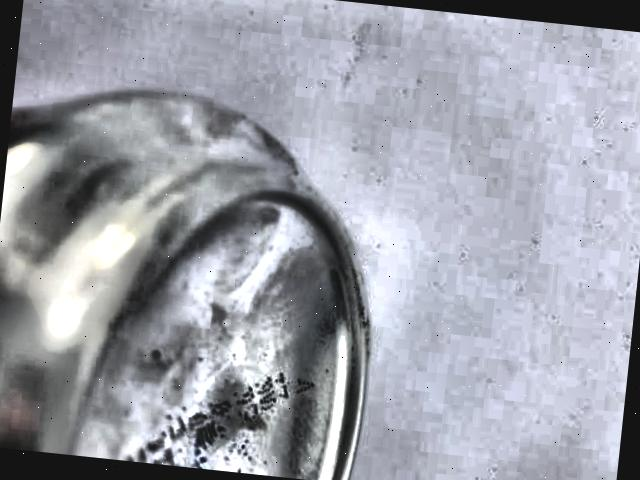Bottles: (0, 70, 397, 480)
